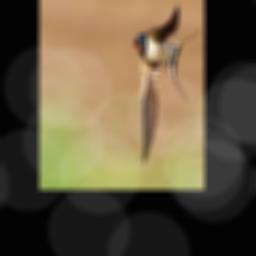Swallow: (132, 4, 200, 164)
